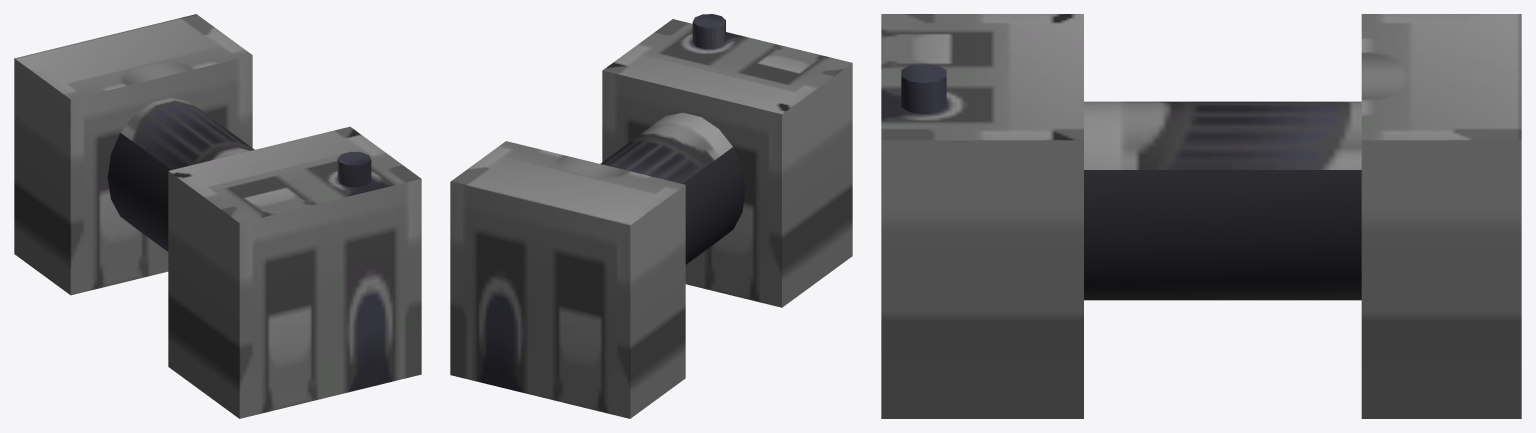
Rendered from Building_DeathrestAccelerator.obj.
3 views of the same model, side by side, from view 1: azimuth 30°, elevation 25°; view 2: azimuth 150°, elevation 25°; view 3: azimuth 270°, elevation 25° (orthographic). The views are drawn at different scales.
Visible parts, largest first — view 1: Body; view 2: Body; view 3: Body.
Part boxes in pixels (x1,y1,x2,y2): Body: (14, 14, 421, 418); Body: (450, 14, 852, 418); Body: (881, 14, 1521, 418).
Bounding box in the file's own units: 0.875 × 1 × 1.88.
1 material, 1 textured.
